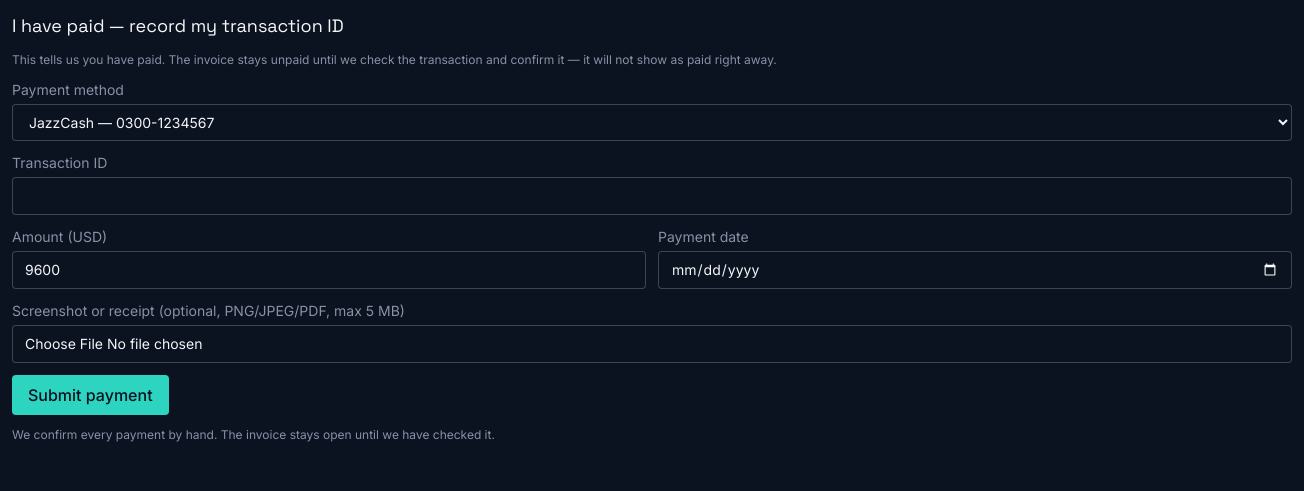
PaymentForm › shows the server's reason when the transaction id was already used
Step 1. Type "JC-90001" into the field labelled "Transaction ID" → [652, 196], box [12, 177, 1292, 215]
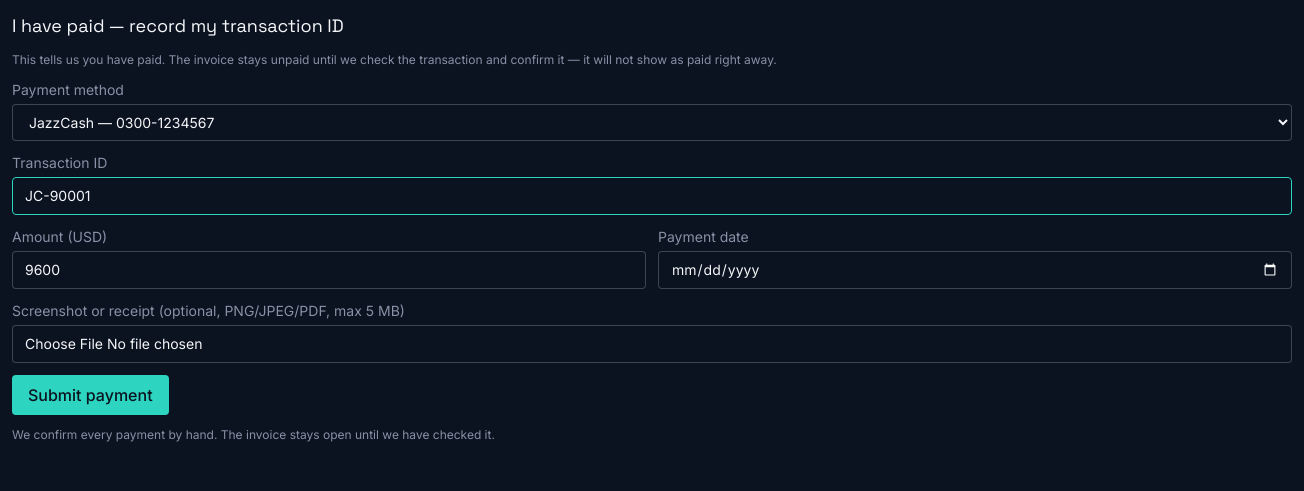
Step 2. Click the button "Submit payment" → [90, 395], box [12, 375, 169, 415]
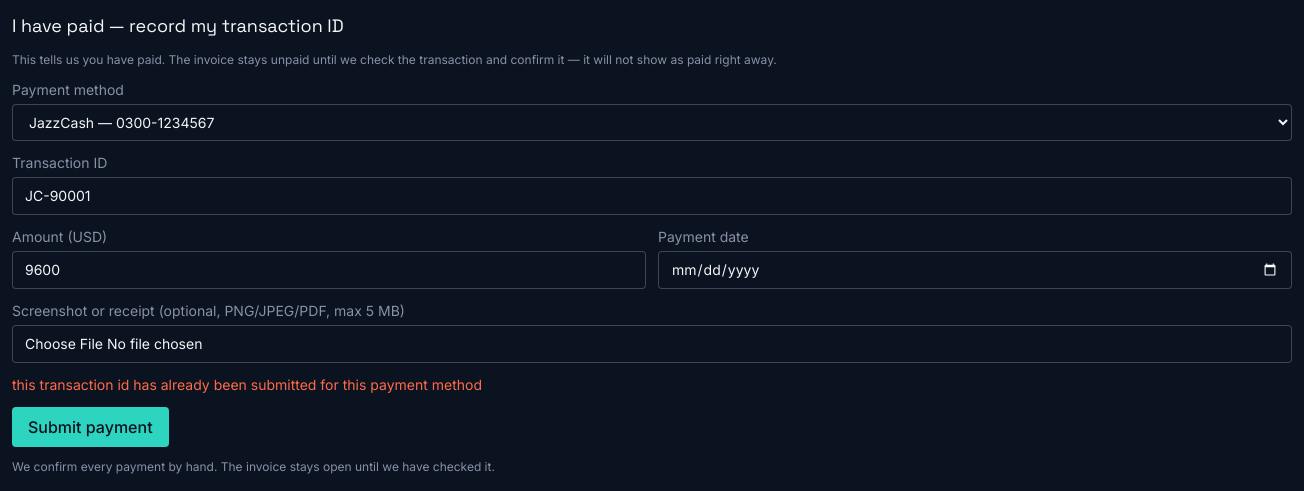
Now the message shows "already been submitted", box [12, 376, 482, 393]
